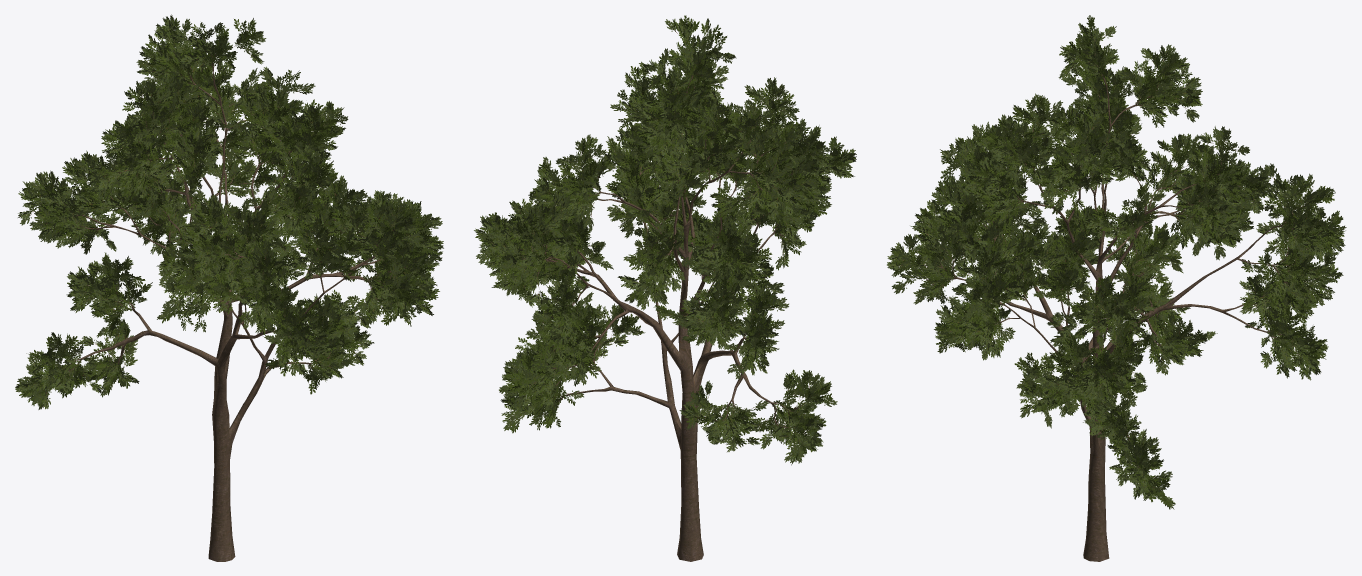
File: SM_Tree_Carolina_Cherry.fbx
3 renders of one model, left to right at view 1: azimuth 30°, elevation 25°; view 2: azimuth 150°, elevation 25°; view 3: azimuth 270°, elevation 25°, orthographic. The views are drawn at different scales.
Parts seen in each view (by area): view 1: Tree_Carolina_Cherry_LOD0; view 2: Tree_Carolina_Cherry_LOD0; view 3: Tree_Carolina_Cherry_LOD0.
Part boxes in pixels (<box>): Tree_Carolina_Cherry_LOD0: <box>15,14,443,561</box>; Tree_Carolina_Cherry_LOD0: <box>474,15,856,561</box>; Tree_Carolina_Cherry_LOD0: <box>887,15,1346,561</box>.
Size of what is drawn, in the model's own units: 625 by 843 by 664.
